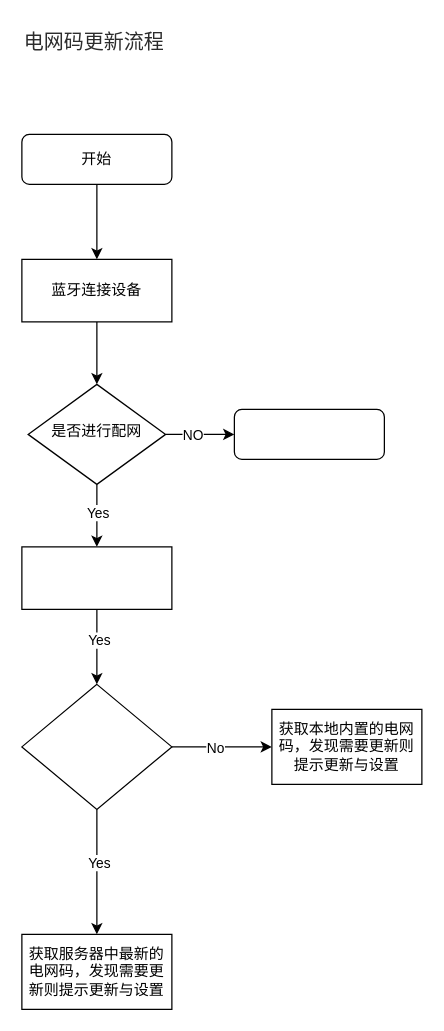
Image size: 444x1031. Some labels were removed from this diagram. Each missing label, with the box of its shape:
Plug in lamp: (233, 408, 384, 459)
当前是否有网络？: (21, 683, 172, 809)
蓝牙近端获取 设备SN 和 当前电网码版本: (21, 546, 172, 609)
